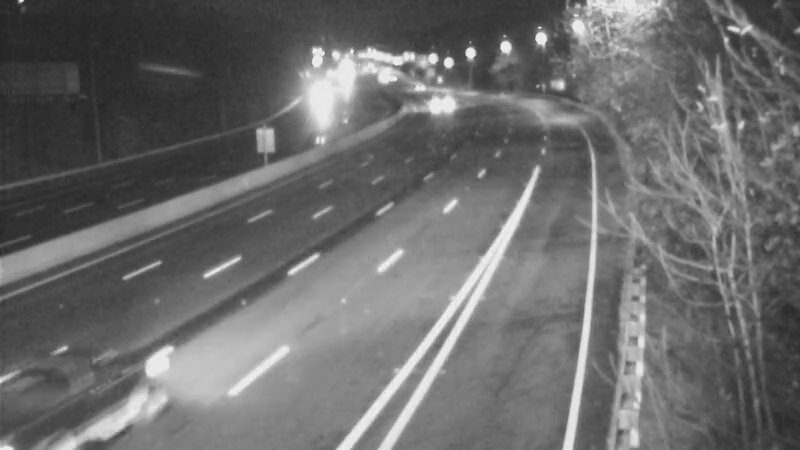vehicle: (24, 336, 134, 446), (389, 63, 439, 113), (415, 75, 465, 125), (300, 71, 350, 121)
